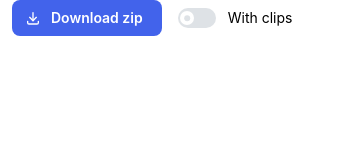
Test: DownloadButton › falls back to a count-free message when the pending count is unknown
This screenshot has width=354, height=160.
Click the link with test id "admin-download". click: (87, 18)
box: left=12, top=0, right=162, bottom=36
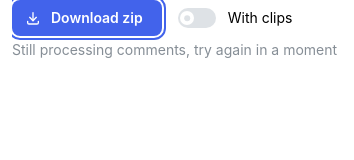
Expected: the text "Still processing comments, try again in a moment" is shown, left=12, top=41, right=337, bottom=58
